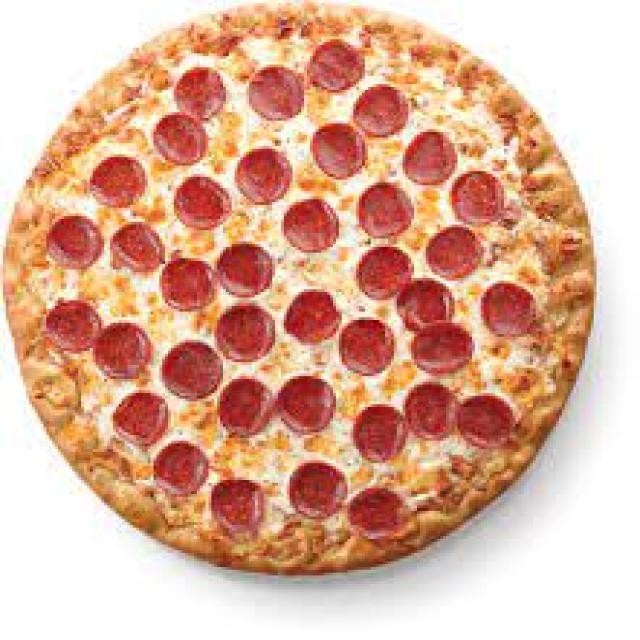Pizza: (0, 4, 640, 577)
